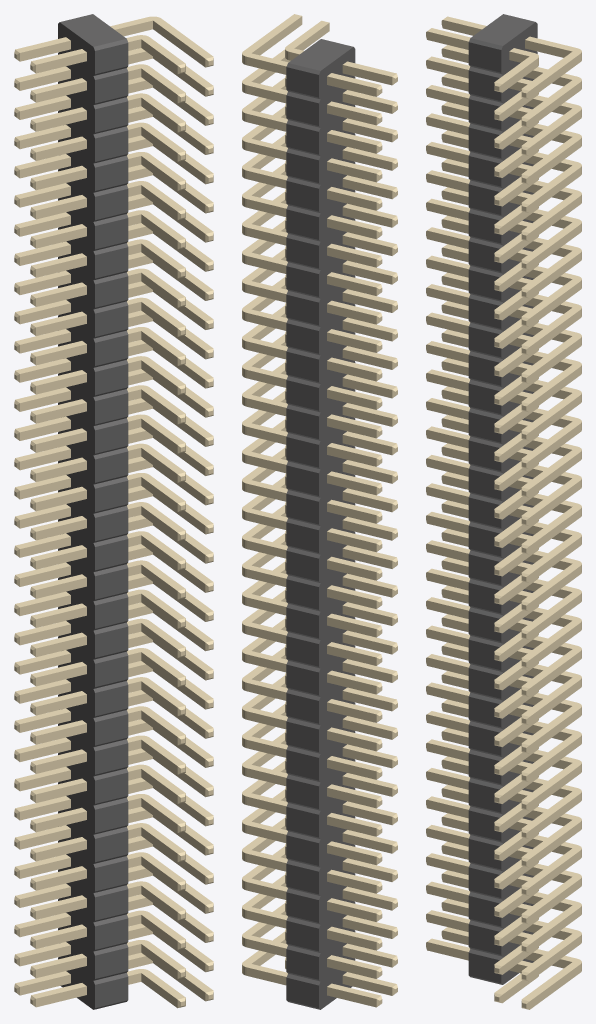
The model's file is PinHeader_2x33_P1.00mm_Horizontal.glb.
3 renders of one model, left to right at view 1: azimuth 30°, elevation 25°; view 2: azimuth 150°, elevation 25°; view 3: azimuth 330°, elevation 25°, orthographic. The views are drawn at different scales.
Visible parts, largest first — view 1: Shape_IndexedFaceSet.004, Shape_IndexedFaceSet.001, Shape_IndexedFaceSet.016, Shape_IndexedFaceSet.088, Shape_IndexedFaceSet.112, Shape_IndexedFaceSet.118, Shape_IndexedFaceSet.142, Shape_IndexedFaceSet.178, Shape_IndexedFaceSet.010, Shape_IndexedFaceSet.022, Shape_IndexedFaceSet.034, Shape_IndexedFaceSet.040 (+91 smaller); view 2: Shape_IndexedFaceSet.004, Shape_IndexedFaceSet.001, Shape_IndexedFaceSet.031, Shape_IndexedFaceSet.133, Shape_IndexedFaceSet.037, Shape_IndexedFaceSet.097, Shape_IndexedFaceSet.103, Shape_IndexedFaceSet.139, Shape_IndexedFaceSet.145, Shape_IndexedFaceSet.169, Shape_IndexedFaceSet.199, Shape_IndexedFaceSet.013 (+131 smaller); view 3: Shape_IndexedFaceSet.003, Shape_IndexedFaceSet.001, Shape_IndexedFaceSet.002, Shape_IndexedFaceSet.461, Shape_IndexedFaceSet.034, Shape_IndexedFaceSet.136, Shape_IndexedFaceSet.166, Shape_IndexedFaceSet.028, Shape_IndexedFaceSet.040, Shape_IndexedFaceSet.046, Shape_IndexedFaceSet.070, Shape_IndexedFaceSet.172 (+124 smaller).
Boxes of the visible parts, box(x1,y1,x2,y2) form: Shape_IndexedFaceSet.004: box(58, 22, 94, 1009); Shape_IndexedFaceSet.001: box(60, 14, 126, 46); Shape_IndexedFaceSet.016: box(95, 101, 128, 132); Shape_IndexedFaceSet.088: box(95, 451, 128, 482); Shape_IndexedFaceSet.112: box(95, 568, 128, 599); Shape_IndexedFaceSet.118: box(95, 597, 128, 628); Shape_IndexedFaceSet.142: box(95, 714, 128, 745); Shape_IndexedFaceSet.178: box(95, 889, 128, 920); Shape_IndexedFaceSet.010: box(95, 72, 128, 103); Shape_IndexedFaceSet.022: box(95, 130, 128, 161); Shape_IndexedFaceSet.034: box(95, 189, 128, 220); Shape_IndexedFaceSet.040: box(95, 218, 128, 249); Shape_IndexedFaceSet.004: box(319, 47, 355, 1009); Shape_IndexedFaceSet.001: box(288, 39, 353, 70); Shape_IndexedFaceSet.031: box(286, 181, 318, 211); Shape_IndexedFaceSet.133: box(286, 664, 318, 695); Shape_IndexedFaceSet.037: box(286, 209, 318, 239); Shape_IndexedFaceSet.097: box(286, 494, 318, 524); Shape_IndexedFaceSet.103: box(286, 522, 318, 552); Shape_IndexedFaceSet.139: box(286, 693, 318, 723); Shape_IndexedFaceSet.145: box(286, 721, 318, 751); Shape_IndexedFaceSet.169: box(286, 835, 318, 865); Shape_IndexedFaceSet.199: box(286, 977, 318, 1008); Shape_IndexedFaceSet.013: box(286, 95, 318, 125); Shape_IndexedFaceSet.003: box(501, 22, 537, 984); Shape_IndexedFaceSet.001: box(470, 14, 535, 45); Shape_IndexedFaceSet.002: box(468, 42, 501, 72); Shape_IndexedFaceSet.461: box(522, 36, 581, 90); Shape_IndexedFaceSet.034: box(468, 184, 501, 214); Shape_IndexedFaceSet.136: box(468, 668, 501, 698); Shape_IndexedFaceSet.166: box(468, 810, 501, 840); Shape_IndexedFaceSet.028: box(468, 156, 501, 186); Shape_IndexedFaceSet.040: box(468, 213, 501, 243); Shape_IndexedFaceSet.046: box(468, 241, 501, 271); Shape_IndexedFaceSet.070: box(468, 355, 501, 385); Shape_IndexedFaceSet.172: box(468, 839, 501, 869).
Size of the model in its own units: 2.03 by 12.99 by 1.62.
